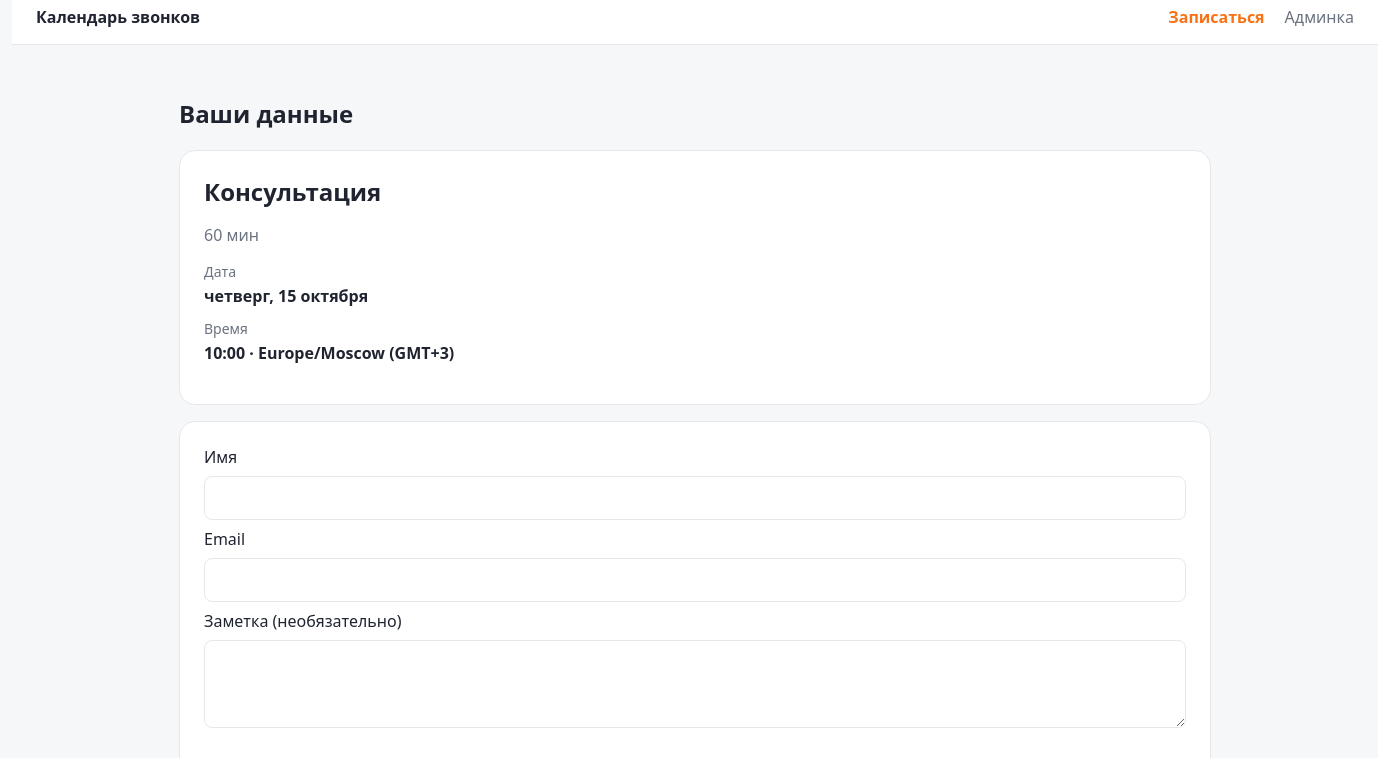
booking form › books a slot through the SDK and shows the server snapshot
Type "Анна Гость" into the field labelled "Имя" at (695, 498), box [204, 476, 1186, 520]
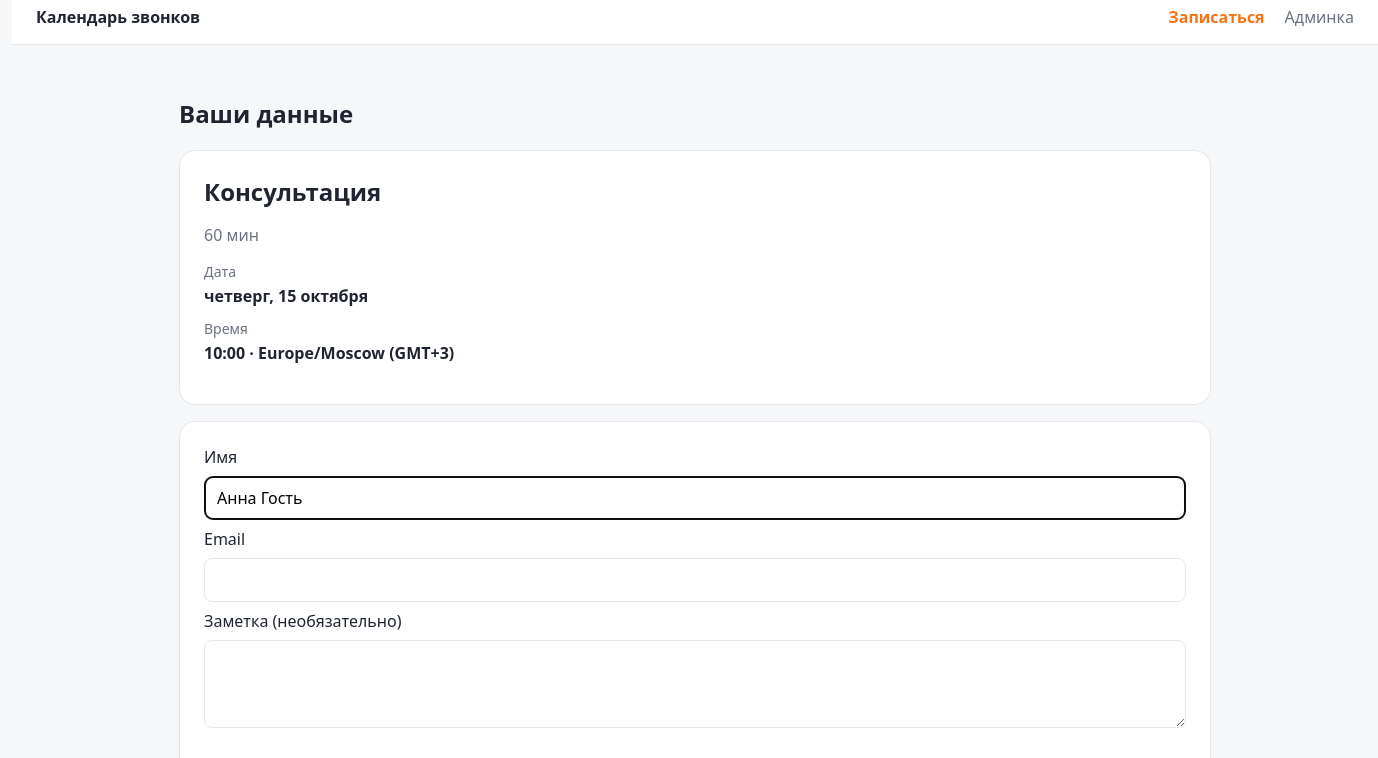
Type "anna@example.com" into the field labelled "Email" at (695, 580), box [204, 558, 1186, 602]
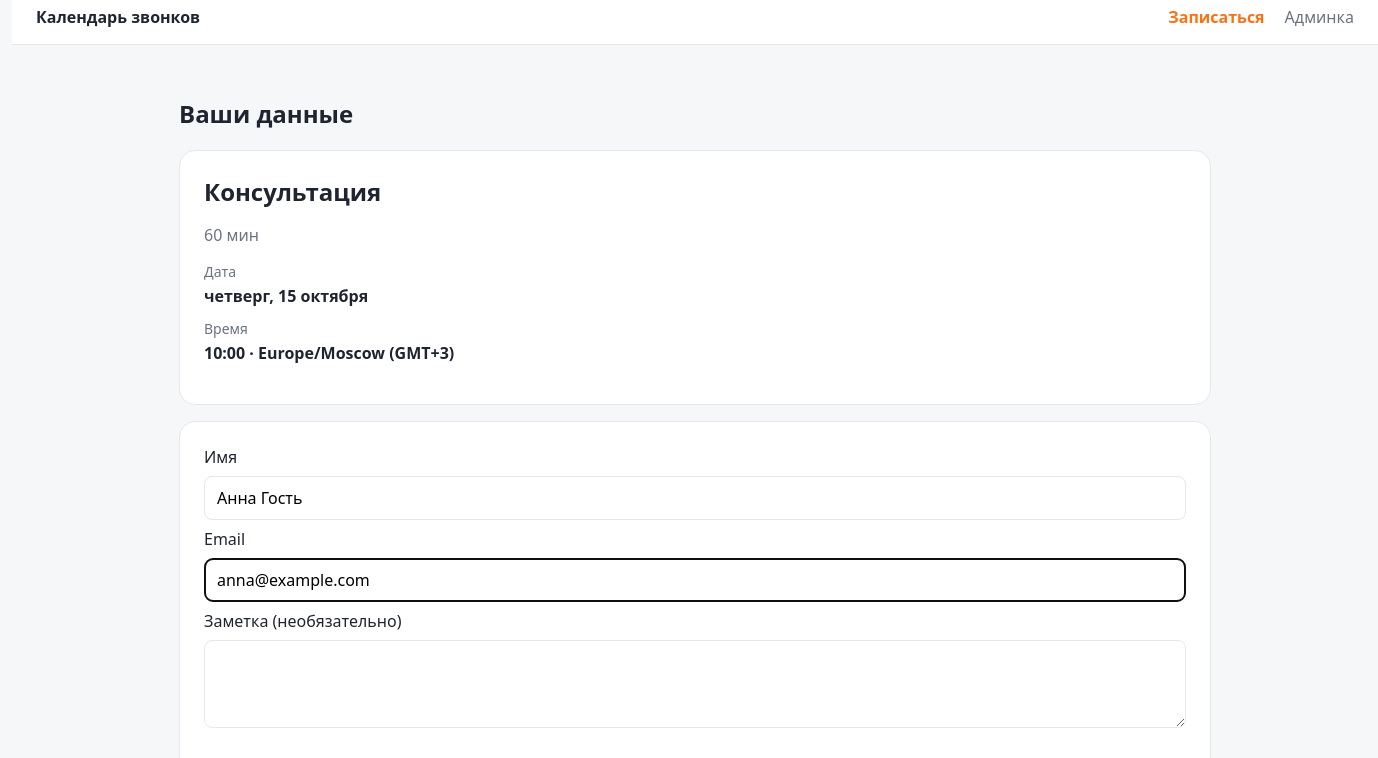
Type "Хочу обсудить проект" into the text box labelled "Заметка (необязательно)" at (695, 684), box [204, 640, 1186, 728]
(page scrolled)
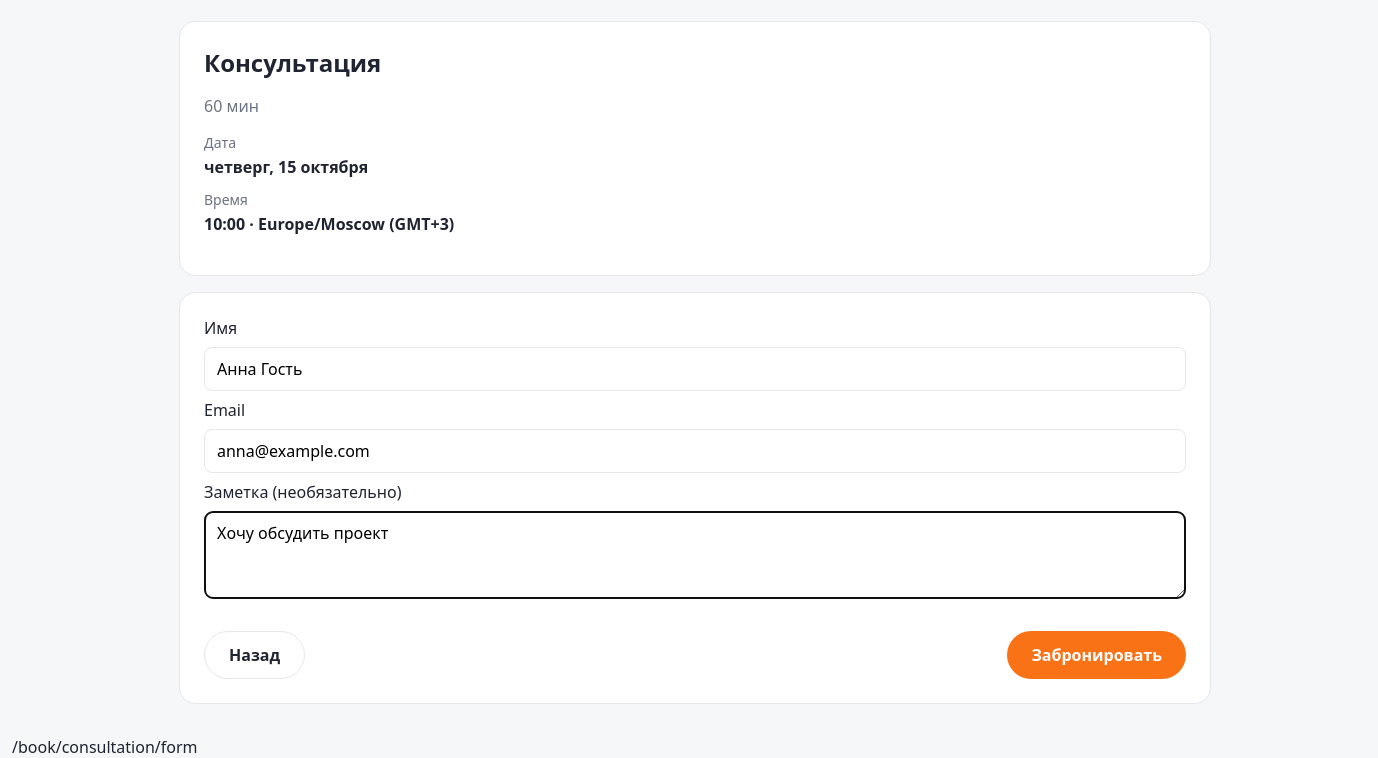
Click the button "Забронировать" at (1097, 655), box [1007, 631, 1186, 679]
(page scrolled)
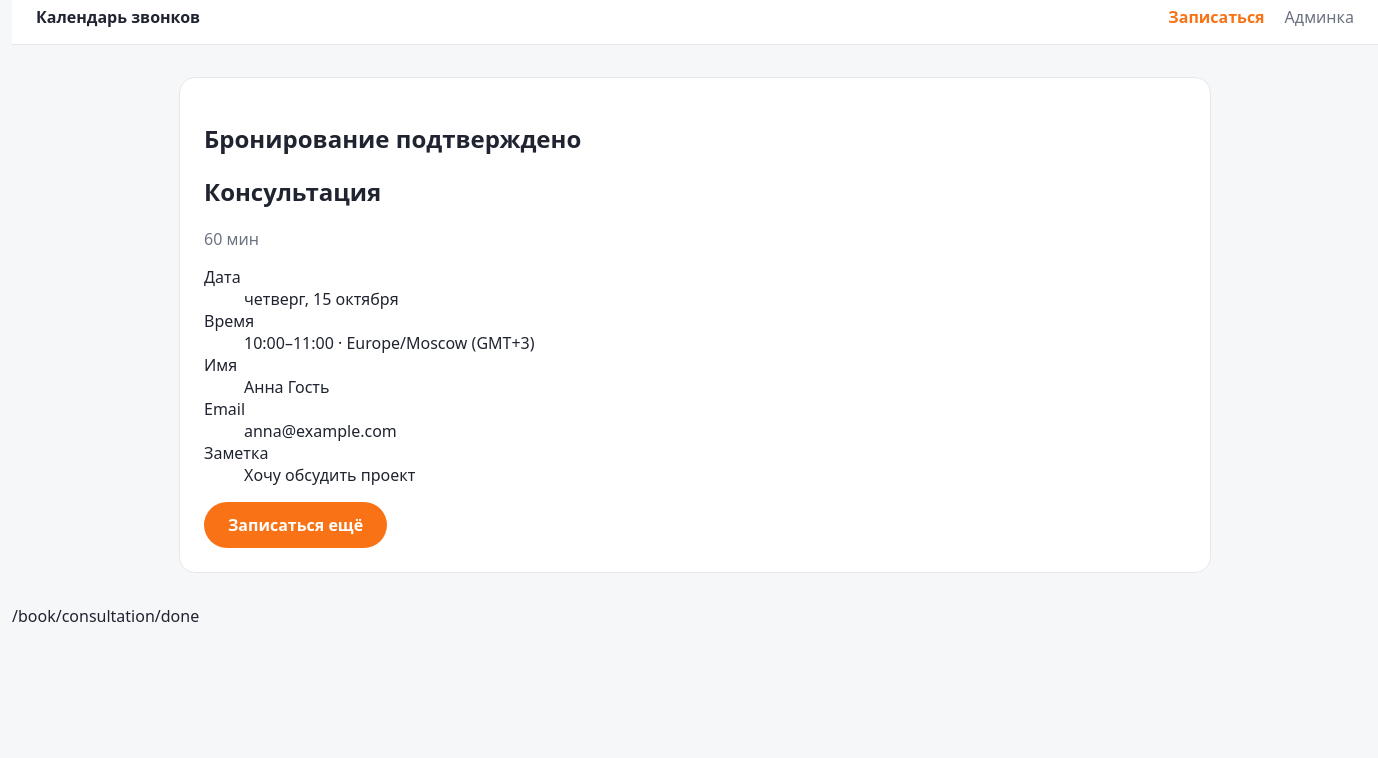
expect the heading "Бронирование подтверждено" is shown: met, box [204, 122, 581, 155]
expect the text with test id "pathname" reads "/book/consultation/done": met, box [12, 605, 199, 627]
expect the text "10:00–11:00 · Europe/Moscow (GMT+3)" is shown: met, box [244, 332, 535, 354]
Click the link "Записаться ещё" at (296, 525), box [204, 502, 387, 548]
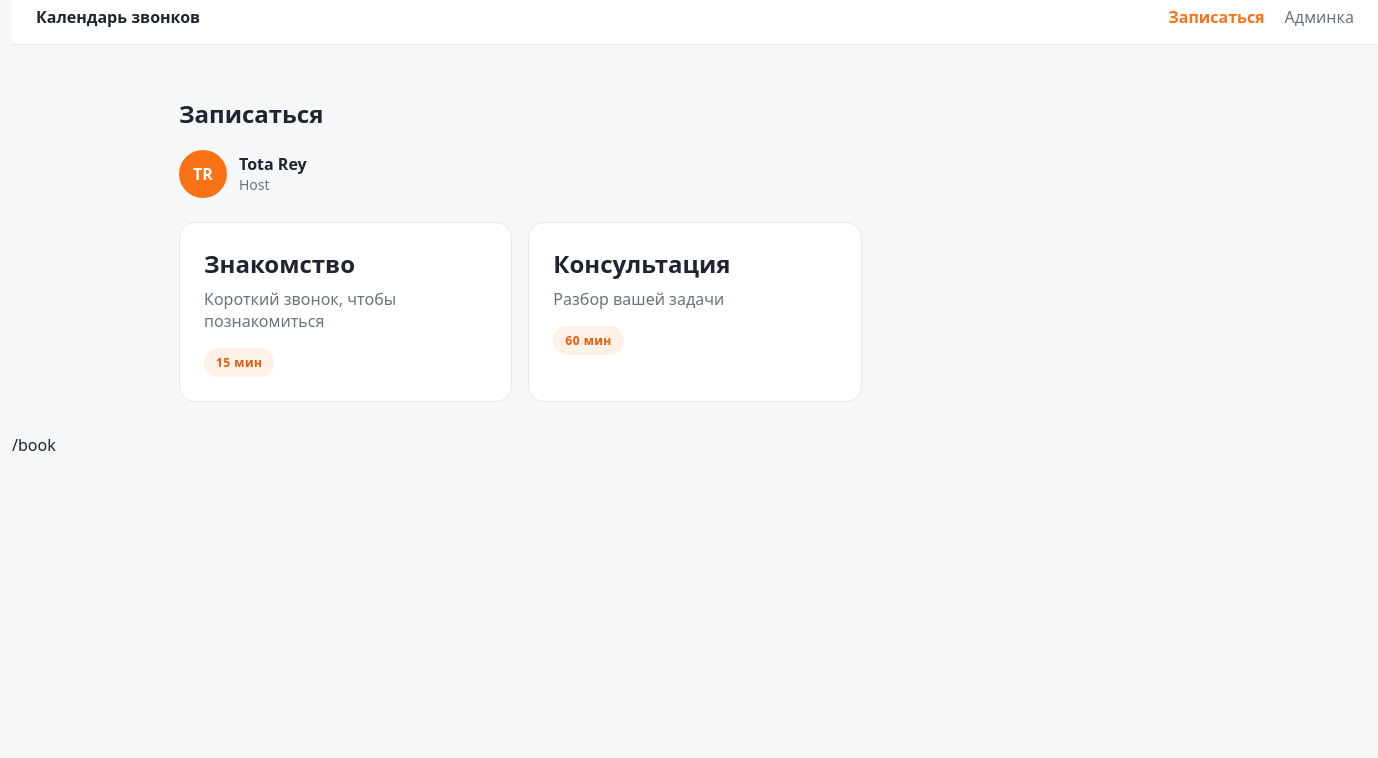
expect the heading "Записаться" is shown: met, box [179, 97, 323, 130]
